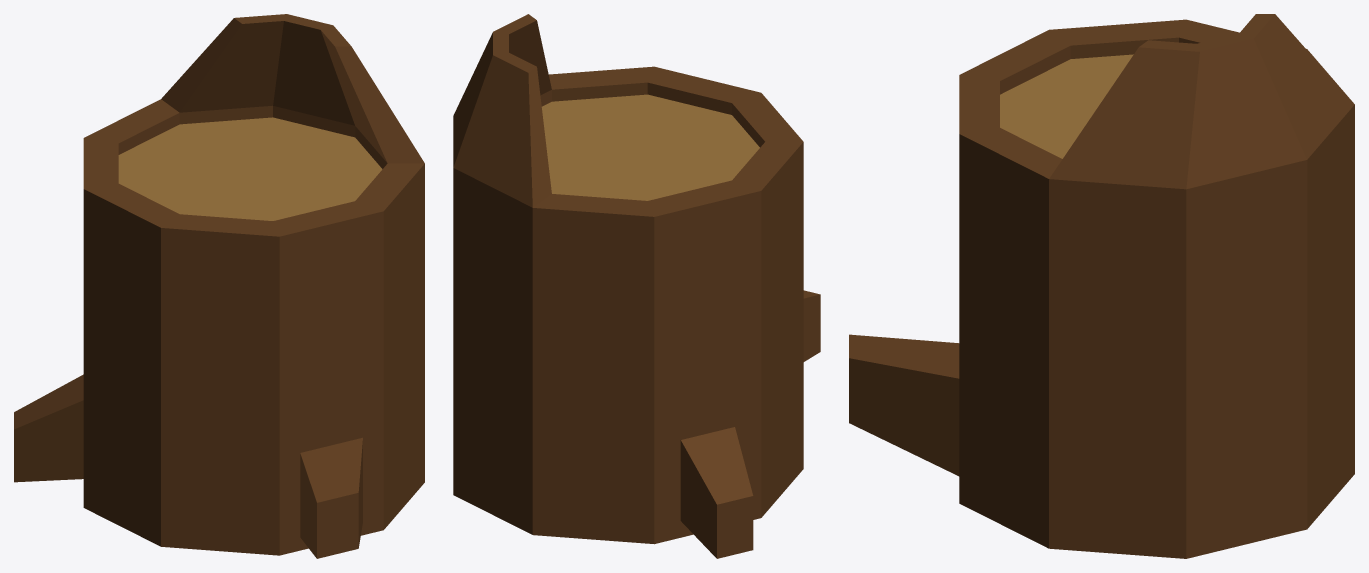
Rendered from пенек.fbx.
The picture shows the model from 3 angles, left to right: view 1: azimuth 30°, elevation 25°; view 2: azimuth 150°, elevation 25°; view 3: azimuth 270°, elevation 25°; orthographic projection. The views are drawn at different scales.
Parts seen in each view (by area): view 1: Cylinder; view 2: Cylinder; view 3: Cylinder.
Boxes of the visible parts, x1,y1,x2,y2 form: Cylinder: [14, 14, 424, 558]; Cylinder: [453, 14, 820, 558]; Cylinder: [849, 14, 1354, 558].
Bounding box in the file's own units: 217 × 261 × 248.
